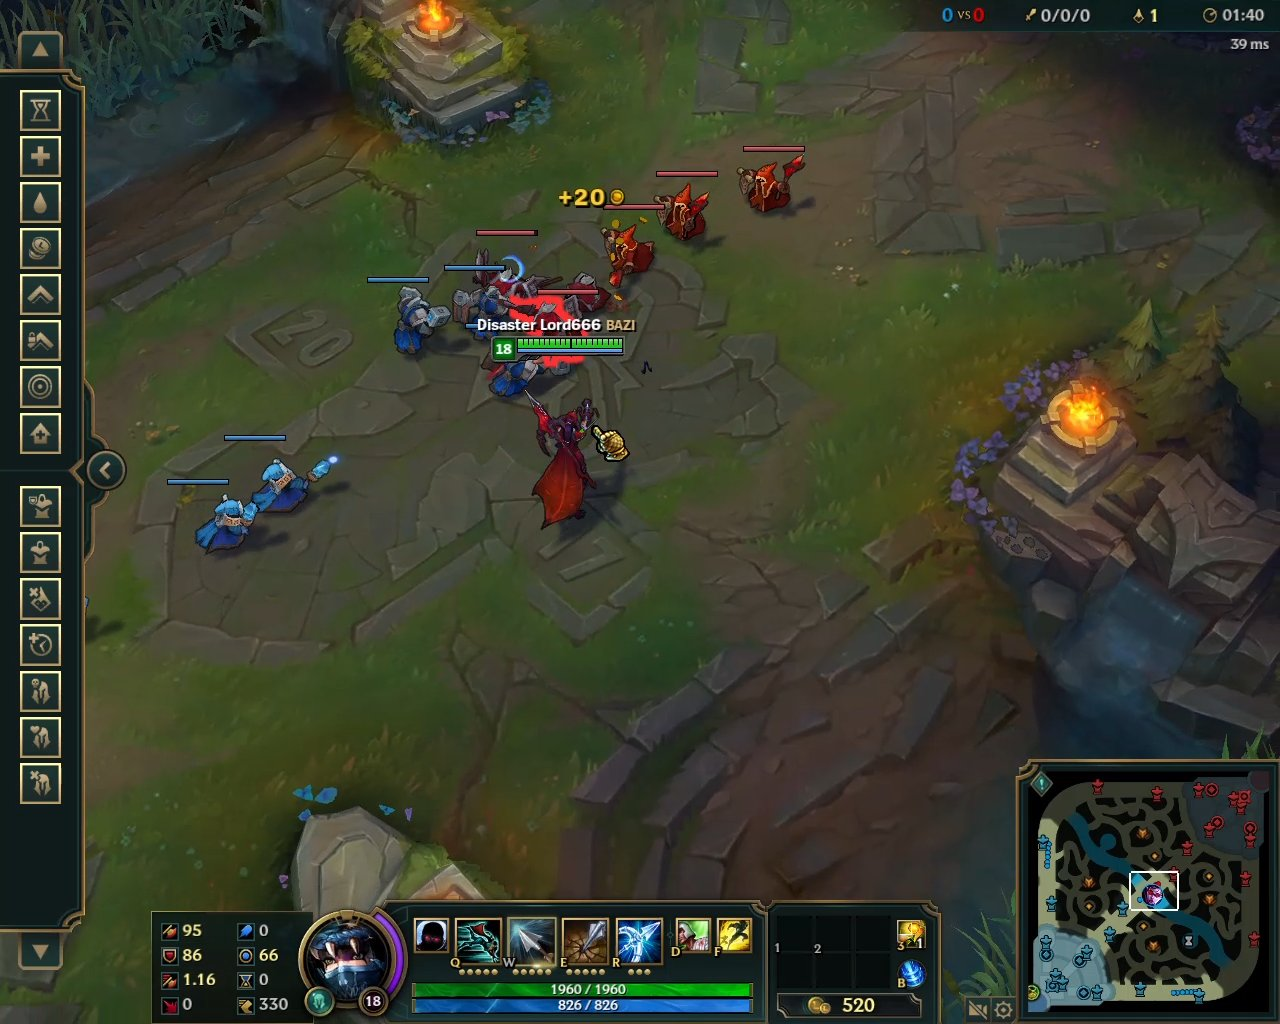EnemyMinion: (600, 201, 664, 294), (652, 169, 720, 245), (736, 146, 805, 219)
Vayne: (521, 385, 614, 536)
